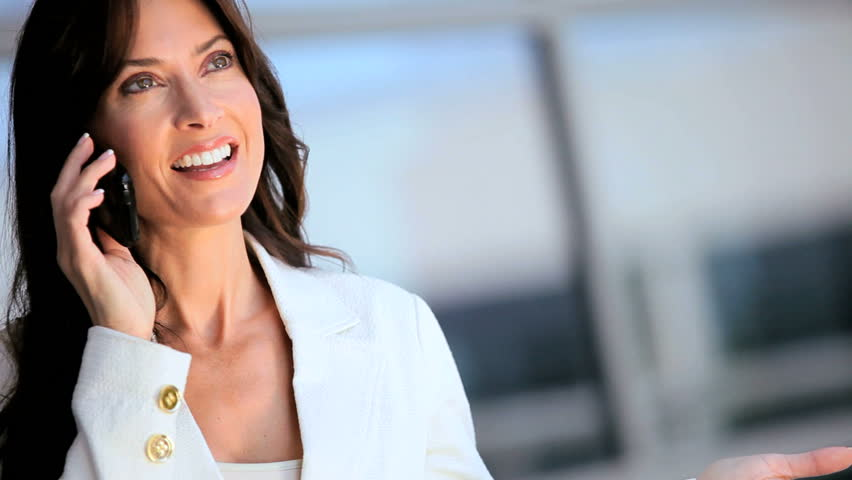phone: (69, 120, 145, 232)
talk: (46, 22, 270, 341)
